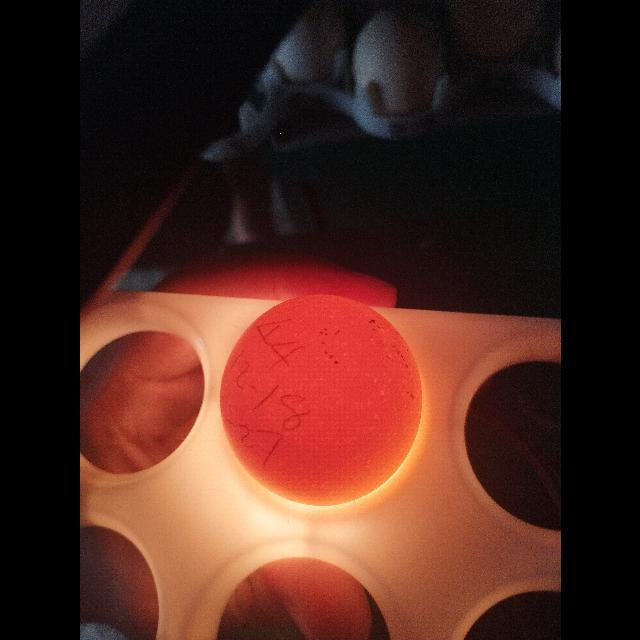Infertile: (217, 289, 428, 511)
